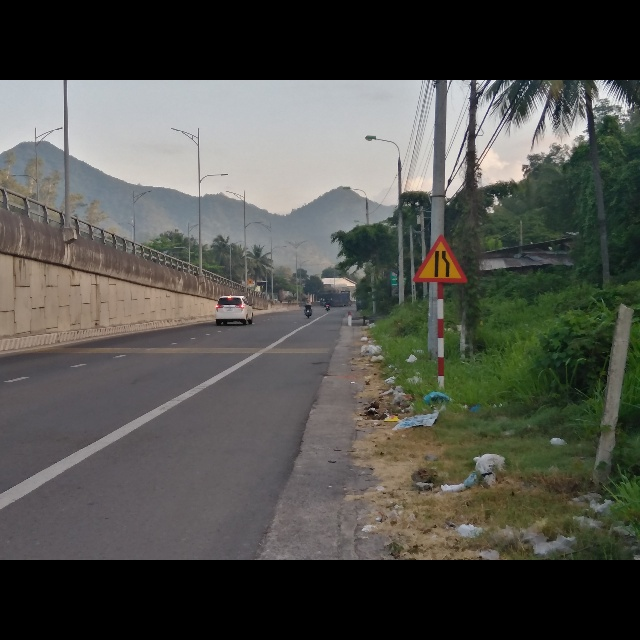Đường bị hẹp bên phải: (413, 235, 469, 283)
